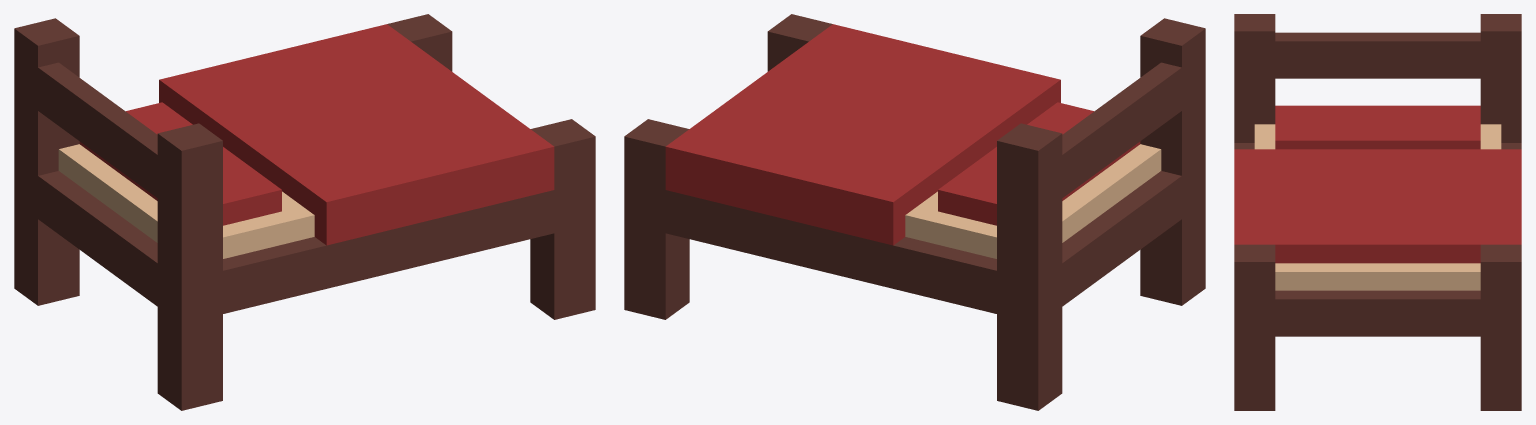
The model's file is Bed.obj.
3 views of the same model, side by side, from view 1: azimuth 30°, elevation 25°; view 2: azimuth 150°, elevation 25°; view 3: azimuth 270°, elevation 25° (orthographic). The views are drawn at different scales.
Bounding box in the file's own units: 20 × 12 × 14.
Materials: 1 (1 with a texture image).
